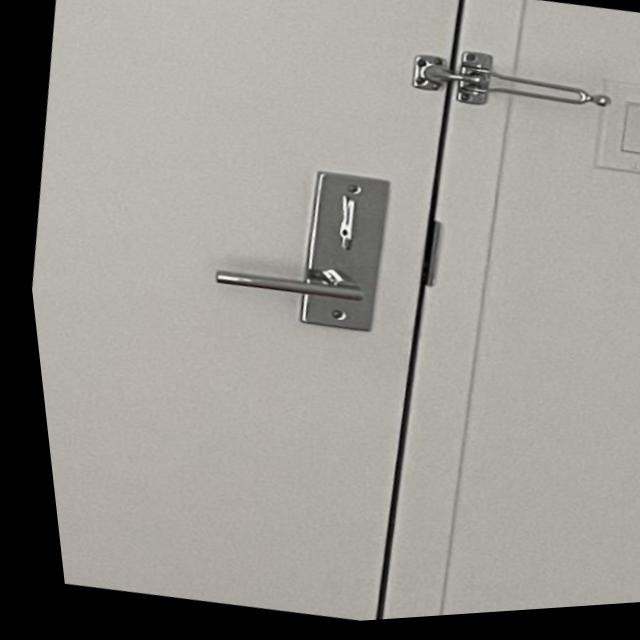door_handle: (187, 235, 393, 341)
